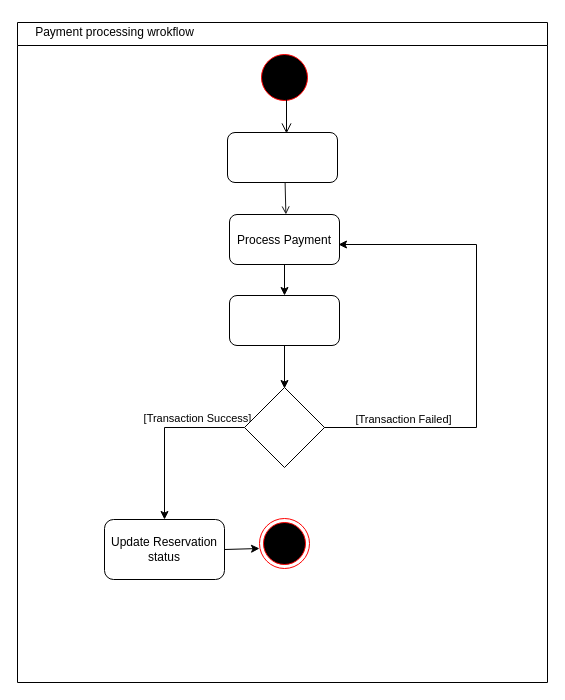
The diagram is 565 pixels wide and 700 high, and some of its shapes have lost their labels. Here are the shapes that lost their labels. From the top down, the centre of each, then its label:
At pixel 282 157: "Make Payment".
At pixel 284 320: "Verify Transaction".
